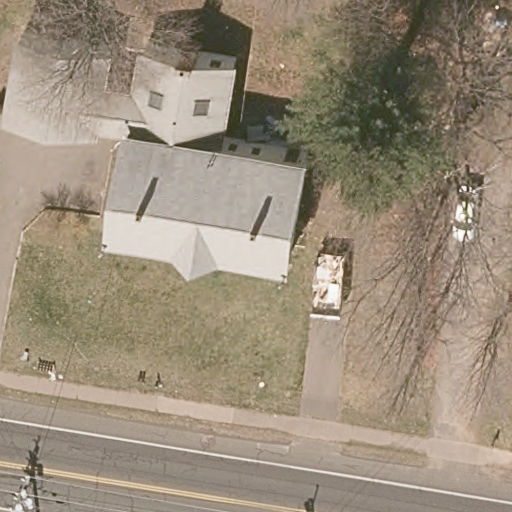DT: (5, 466, 43, 512)
